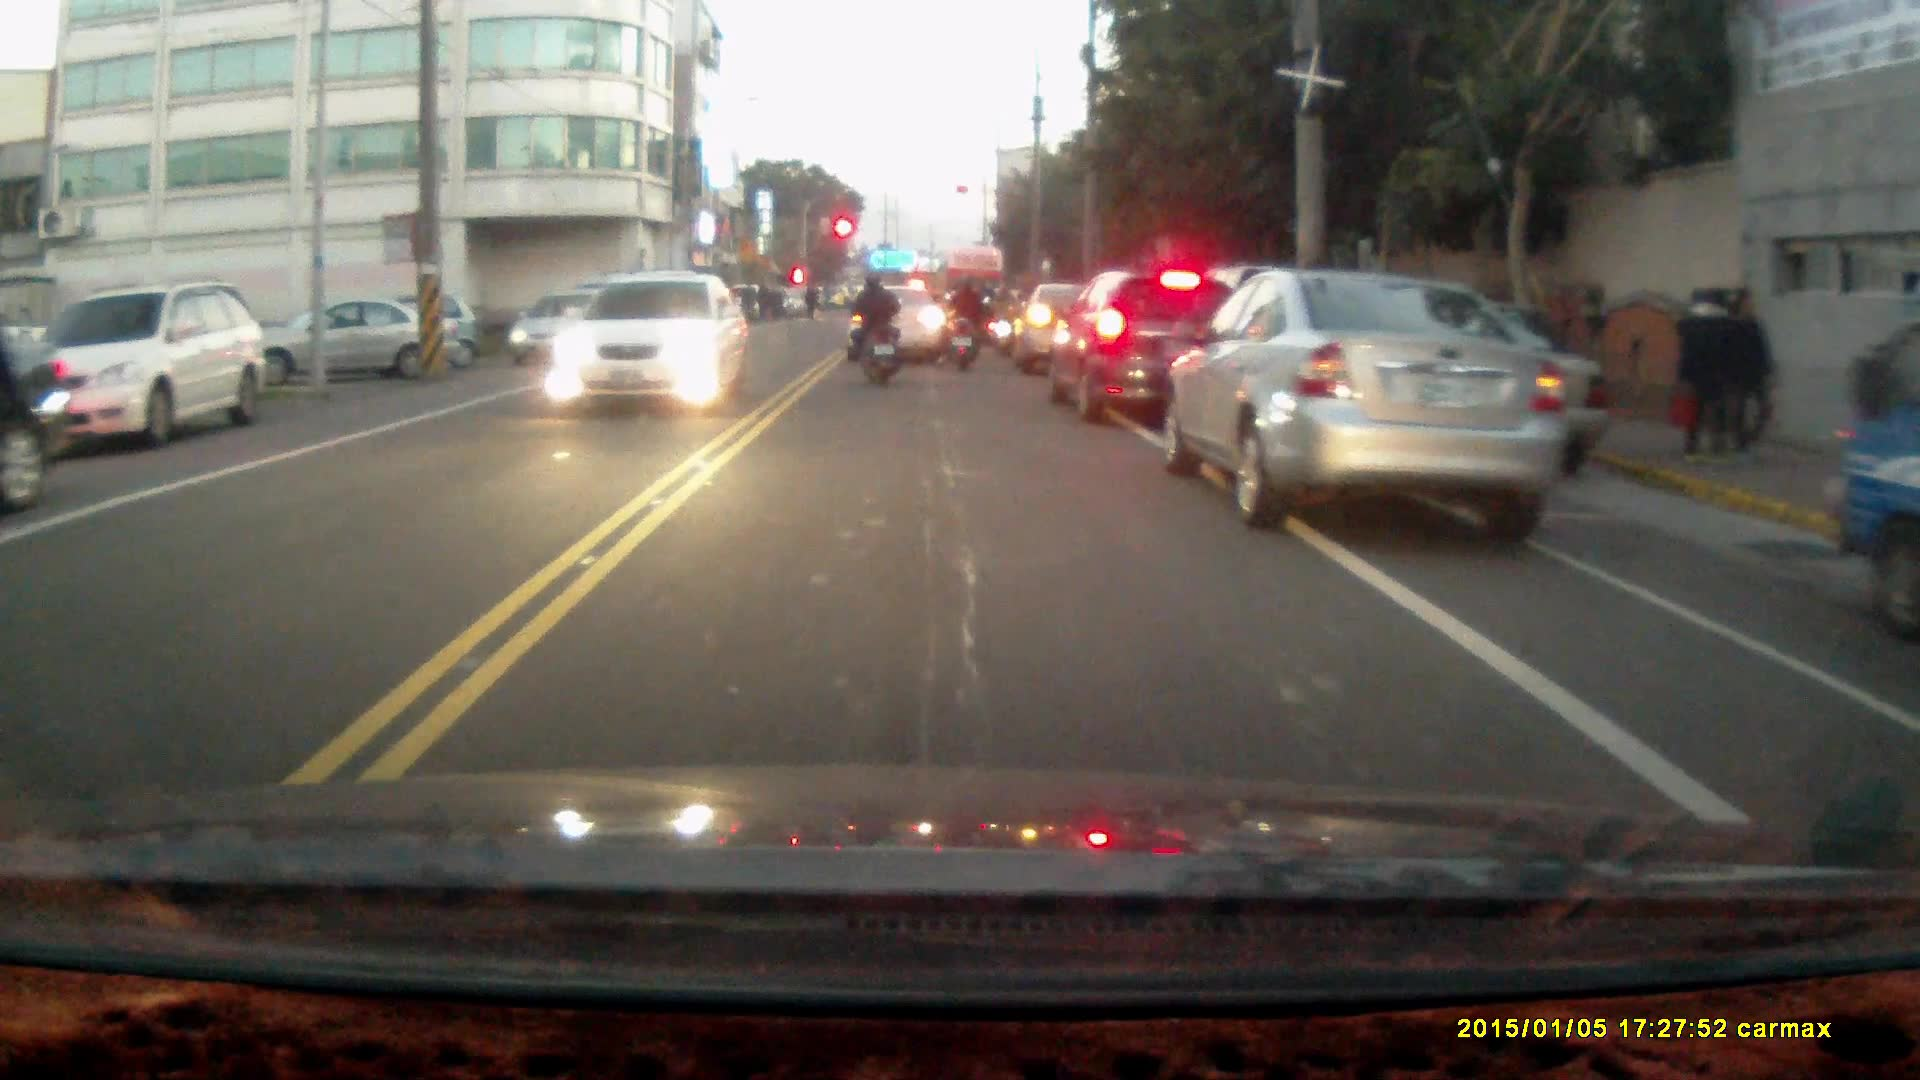pedestrian: (1676, 288, 1735, 468), (1728, 292, 1785, 466)
rider: (846, 268, 899, 385), (941, 273, 990, 369)
vehicle: (1160, 268, 1576, 550), (18, 282, 274, 455), (1048, 273, 1237, 429), (546, 273, 749, 417), (1826, 393, 1920, 640), (255, 298, 462, 381), (1, 327, 73, 519), (515, 290, 628, 375), (849, 291, 953, 369)
